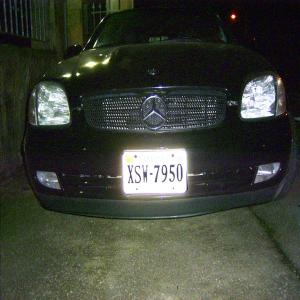Vehicle-registration-plate: (122, 150, 189, 197)
